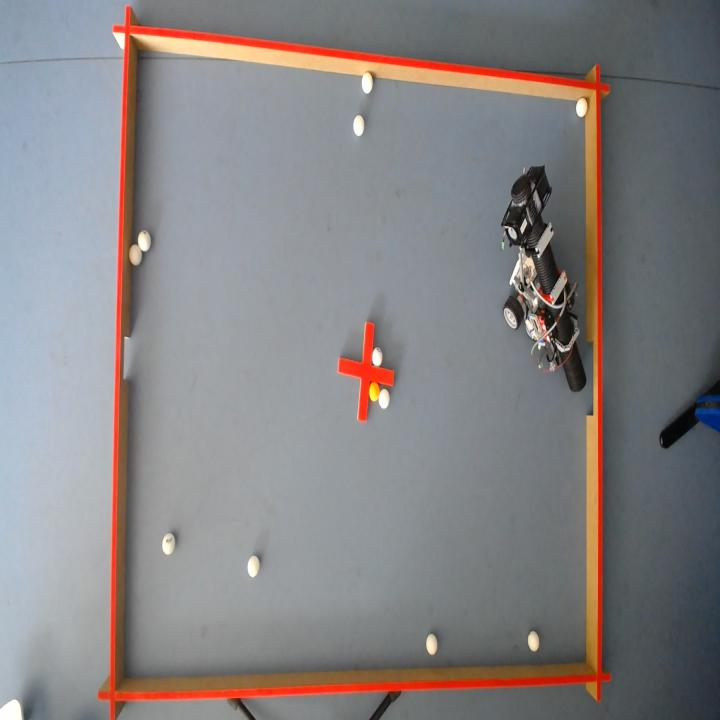orange: (369, 381, 380, 401)
robot: (503, 165, 586, 390)
white: (161, 533, 175, 555), (137, 229, 150, 251), (247, 555, 259, 578), (128, 243, 141, 264), (426, 634, 438, 656), (577, 95, 589, 116), (362, 70, 373, 92), (353, 113, 364, 134), (529, 631, 540, 652), (379, 388, 390, 408), (372, 347, 383, 366)
